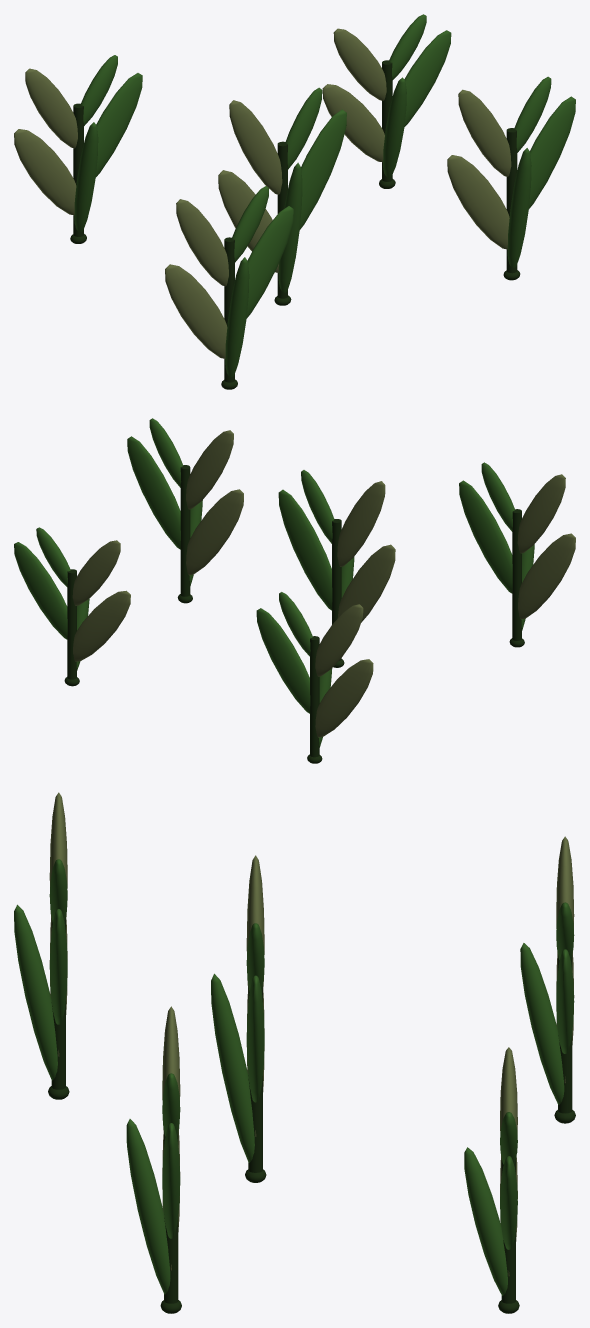
Rendered from CMU3DRMCGrassd3.glb.
3 views of the same model, one above another, from view 1: azimuth 30°, elevation 25°; view 2: azimuth 150°, elevation 25°; view 3: azimuth 270°, elevation 25° (orthographic). The views are drawn at different scales.
Parts seen in each view (by area): view 1: blade clump 4 fork leaf 0, blade clump 3 fork leaf 0, blade clump 0 fork leaf 0, blade clump 1 fork leaf 1, blade clump 1 fork leaf 2, blade clump 4 fork leaf 1, blade clump 3 fork leaf 1, blade clump 2 fork leaf 0, blade clump 3 fork leaf 2, blade clump 4 fork leaf 2, blade clump 0 fork leaf 1, blade clump 0 fork leaf 2 (+18 smaller); view 2: blade clump 1 fork leaf 1, blade clump 4 fork leaf 1, blade clump 3 fork leaf 1, blade clump 4 fork leaf 0, blade clump 3 fork leaf 0, blade clump 0 fork leaf 1, blade clump 0 fork leaf 0, blade clump 2 fork leaf 1, blade clump 1 fork leaf 0, blade clump 2 fork leaf 0, blade clump 1 fork leaf 2, blade clump 4 fork leaf 2 (+13 smaller); view 3: blade clump 1 forward leaf, blade clump 3 forward leaf, blade clump 4 forward leaf, blade clump 0 forward leaf, blade clump 2 forward leaf, blade clump 1 fork leaf 1, blade clump 4 fork leaf 1, blade clump 3 fork leaf 1, blade clump 0 fork leaf 1, blade clump 2 fork leaf 1, blade clump 1 fork leaf 2, blade clump 3 fork leaf 2 (+13 smaller).
Boxes of the visible parts, x1=… form: blade clump 4 fork leaf 0: x1=165, y1=264, x2=227, y2=358; blade clump 3 fork leaf 0: x1=447, y1=155, x2=509, y2=249; blade clump 0 fork leaf 0: x1=14, y1=129, x2=76, y2=215; blade clump 1 fork leaf 1: x1=299, y1=109, x2=346, y2=229; blade clump 1 fork leaf 2: x1=229, y1=100, x2=282, y2=194; blade clump 4 fork leaf 1: x1=246, y1=206, x2=293, y2=318; blade clump 3 fork leaf 1: x1=529, y1=96, x2=575, y2=208; blade clump 2 fork leaf 0: x1=322, y1=84, x2=384, y2=162; blade clump 3 fork leaf 2: x1=458, y1=89, x2=511, y2=176; blade clump 4 fork leaf 2: x1=176, y1=199, x2=228, y2=286; blade clump 0 fork leaf 1: x1=95, y1=73, x2=142, y2=177; blade clump 0 fork leaf 2: x1=25, y1=68, x2=77, y2=148; blade clump 1 fork leaf 1: x1=278, y1=489, x2=332, y2=610; blade clump 4 fork leaf 1: x1=459, y1=480, x2=512, y2=593; blade clump 3 fork leaf 1: x1=127, y1=436, x2=180, y2=549; blade clump 4 fork leaf 0: x1=518, y1=533, x2=575, y2=619; blade clump 3 fork leaf 0: x1=186, y1=489, x2=243, y2=575; blade clump 0 fork leaf 1: x1=256, y1=608, x2=310, y2=713; blade clump 0 fork leaf 0: x1=315, y1=659, x2=373, y2=737; blade clump 2 fork leaf 1: x1=14, y1=542, x2=67, y2=639; blade clump 1 fork leaf 0: x1=338, y1=544, x2=395, y2=622; blade clump 2 fork leaf 0: x1=73, y1=590, x2=130, y2=661; blade clump 1 fork leaf 2: x1=337, y1=481, x2=385, y2=566; blade clump 4 fork leaf 2: x1=517, y1=474, x2=565, y2=553; blade clump 1 forward leaf: x1=211, y1=973, x2=254, y2=1162; blade clump 3 forward leaf: x1=126, y1=1119, x2=170, y2=1294; blade clump 4 forward leaf: x1=14, y1=904, x2=57, y2=1080; blade clump 0 forward leaf: x1=520, y1=943, x2=564, y2=1104; blade clump 2 forward leaf: x1=464, y1=1147, x2=507, y2=1295; blade clump 1 fork leaf 1: x1=246, y1=975, x2=264, y2=1102; blade clump 4 fork leaf 1: x1=49, y1=909, x2=67, y2=1024; blade clump 3 fork leaf 1: x1=162, y1=1123, x2=180, y2=1238; blade clump 0 fork leaf 1: x1=556, y1=949, x2=574, y2=1053; blade clump 2 fork leaf 1: x1=500, y1=1156, x2=517, y2=1249; blade clump 1 fork leaf 2: x1=246, y1=855, x2=264, y2=991; blade clump 3 fork leaf 2: x1=162, y1=1006, x2=180, y2=1137.
Bounding box in the file's own units: 0.7862 × 0.36 × 0.6242.
